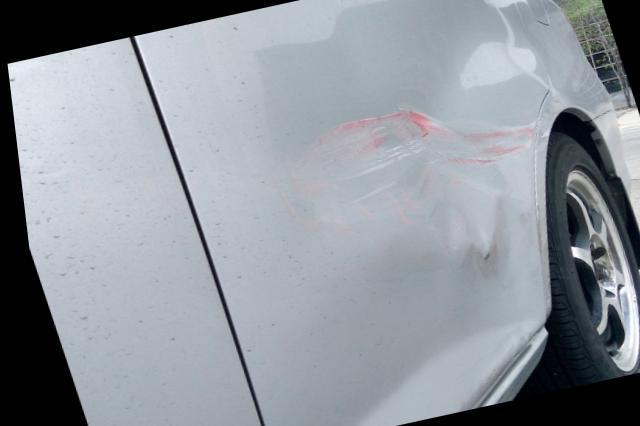dent: (258, 0, 547, 254)
